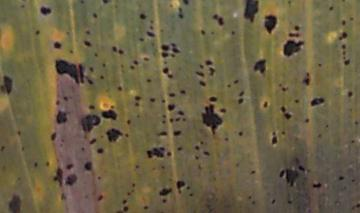tarspot: (55, 59, 85, 85), (203, 103, 222, 136), (81, 114, 101, 133), (243, 1, 259, 23), (284, 40, 303, 57), (8, 194, 22, 213), (285, 169, 299, 187), (1, 75, 12, 96), (53, 167, 64, 188), (107, 128, 123, 142), (147, 147, 165, 159), (265, 15, 277, 33), (101, 109, 118, 119), (254, 60, 266, 74), (65, 173, 77, 186), (56, 110, 67, 124), (40, 6, 52, 17), (159, 187, 172, 196), (304, 72, 310, 86), (312, 98, 324, 105), (84, 162, 93, 171), (177, 180, 184, 191), (53, 41, 62, 49), (218, 15, 224, 26), (208, 96, 218, 102), (288, 32, 300, 37), (312, 182, 322, 188), (89, 137, 96, 145), (66, 163, 74, 170), (212, 13, 219, 21), (178, 7, 183, 18), (146, 31, 155, 37), (160, 44, 169, 50), (209, 66, 215, 75), (51, 131, 56, 141), (168, 103, 174, 111), (140, 12, 146, 20), (196, 71, 204, 77), (272, 137, 278, 145), (60, 191, 65, 200), (84, 40, 91, 46), (87, 79, 94, 85), (88, 104, 95, 110), (162, 67, 168, 74), (149, 97, 156, 103), (143, 56, 150, 62), (177, 110, 184, 116), (174, 130, 181, 136), (285, 113, 291, 120), (298, 165, 305, 171), (172, 48, 180, 53), (281, 105, 286, 113), (263, 100, 268, 108), (35, 29, 41, 35), (167, 73, 173, 79), (159, 131, 168, 135), (250, 169, 256, 175), (98, 195, 104, 201), (93, 12, 98, 19), (112, 45, 117, 52), (161, 52, 168, 57), (168, 92, 175, 97), (199, 81, 206, 86), (205, 60, 212, 65), (342, 31, 347, 38), (280, 170, 285, 177), (287, 1, 292, 8), (349, 15, 354, 22), (197, 163, 202, 170), (167, 3, 174, 8), (69, 49, 74, 55), (118, 49, 124, 54), (89, 66, 94, 72), (55, 100, 61, 105), (97, 148, 103, 153), (118, 85, 123, 91), (124, 132, 129, 138), (133, 59, 138, 65), (238, 98, 243, 104), (295, 24, 300, 30), (338, 176, 344, 181), (123, 206, 129, 211), (235, 161, 240, 167), (158, 28, 164, 33), (16, 175, 21, 181), (182, 1, 189, 5), (86, 29, 91, 34), (93, 52, 98, 57), (146, 78, 151, 83), (135, 95, 140, 100), (129, 64, 134, 69), (201, 30, 206, 35), (171, 43, 176, 48), (149, 25, 154, 30), (345, 60, 350, 65), (305, 118, 310, 123), (341, 44, 346, 49), (351, 139, 356, 144), (122, 199, 127, 204), (60, 137, 65, 142), (149, 19, 154, 24), (100, 74, 104, 80), (1, 145, 5, 151), (34, 161, 38, 167), (127, 119, 131, 125), (134, 102, 140, 106), (220, 108, 226, 112), (233, 80, 239, 84), (342, 20, 346, 26), (348, 91, 352, 97), (238, 131, 242, 137), (143, 205, 149, 209), (296, 158, 300, 164), (120, 63, 124, 69), (102, 1, 109, 4), (21, 4, 26, 8), (18, 130, 22, 135), (110, 104, 115, 108), (81, 147, 85, 152), (139, 37, 144, 41), (181, 90, 186, 94), (176, 117, 181, 121), (177, 147, 182, 151), (167, 151, 171, 156), (195, 145, 199, 150), (200, 140, 204, 145), (240, 91, 244, 96), (318, 63, 322, 68), (356, 203, 360, 208), (288, 200, 292, 205), (272, 199, 276, 204), (162, 199, 167, 203), (194, 155, 199, 159), (354, 120, 358, 125), (248, 195, 252, 200), (252, 200, 256, 205), (188, 193, 193, 197), (97, 175, 101, 180), (65, 31, 70, 35), (64, 95, 67, 101), (137, 113, 140, 119), (102, 63, 106, 67), (170, 118, 174, 122), (162, 120, 166, 124), (227, 84, 231, 88), (135, 164, 139, 168), (339, 36, 343, 40), (329, 6, 333, 10), (272, 132, 276, 136), (294, 99, 298, 103), (282, 87, 286, 91), (351, 179, 355, 183), (225, 137, 229, 141), (186, 186, 190, 190), (317, 134, 321, 138), (132, 182, 136, 186), (161, 165, 165, 169), (22, 146, 25, 151), (47, 161, 50, 166), (204, 152, 209, 155), (232, 30, 235, 35), (80, 1, 84, 4), (199, 65, 203, 68), (172, 54, 175, 58), (162, 99, 165, 103), (282, 131, 285, 135), (163, 115, 166, 118), (326, 124, 329, 127), (128, 192, 130, 195)
